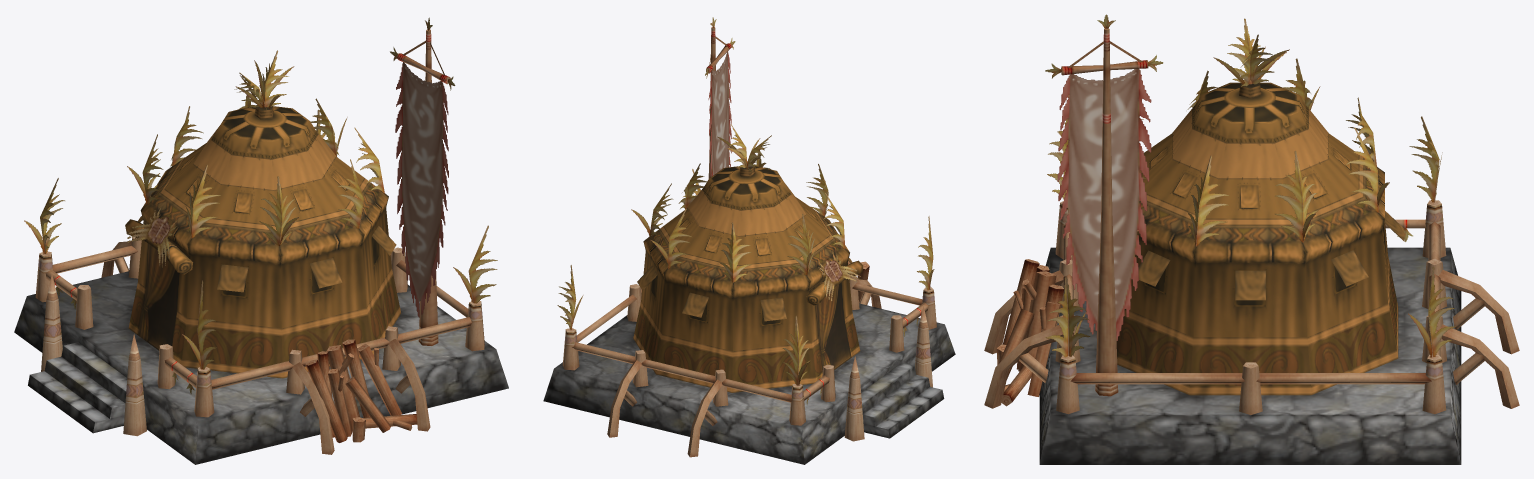
The model's file is HOUSE.FBX.
The picture shows the model from 3 angles, left to right: view 1: azimuth 30°, elevation 25°; view 2: azimuth 150°, elevation 25°; view 3: azimuth 270°, elevation 25°; orthographic projection. The views are drawn at different scales.
Visible parts, largest first — view 1: Yurt03, Box01, Object02; view 2: Yurt03, Object02, Box01; view 3: Yurt03, Box01, Object02.
Boxes of the visible parts, <box> form: Yurt03: <box>125,105,400,378</box>; Box01: <box>24,17,497,454</box>; Object02: <box>14,271,508,464</box>; Yurt03: <box>633,164,863,392</box>; Object02: <box>543,303,955,464</box>; Box01: <box>557,17,936,457</box>; Yurt03: <box>1116,82,1404,395</box>; Box01: <box>984,14,1519,414</box>; Object02: <box>1039,247,1461,464</box>.
Bounding box in the file's own units: 552 × 526 × 603.
